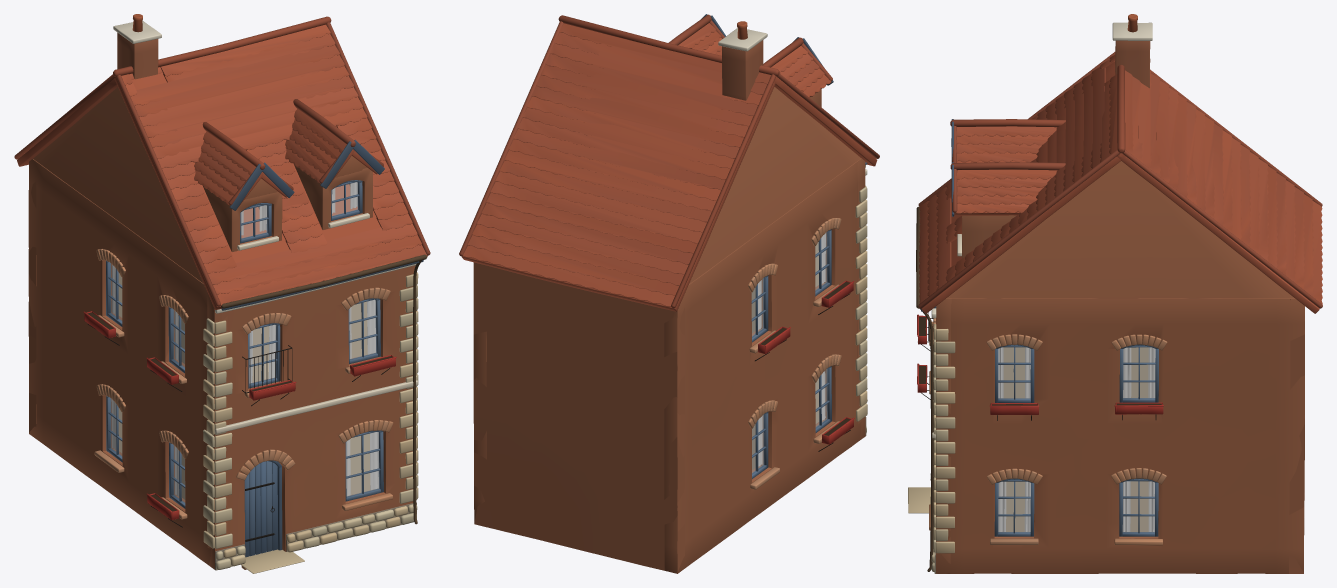
Rendered from GateStreet_Bend4.glb.
The picture shows the model from 3 angles, left to right: view 1: azimuth 30°, elevation 25°; view 2: azimuth 150°, elevation 25°; view 3: azimuth 270°, elevation 25°; orthographic projection. The views are drawn at different scales.
Visible parts, largest first — view 1: Sammel Ziegel, Sammel Stein, Sammel Lack, Sammel Putz, Glas, Vorhang Leinen, Sammel Putz innen, Sammel Metall; view 2: Sammel Ziegel, Sammel Stein, Sammel Lack, Sammel Putz, Glas, Vorhang Leinen, Sammel Putz innen; view 3: Sammel Ziegel, Sammel Stein, Glas, Sammel Lack, Sammel Putz, Sammel Putz innen, Vorhang Leinen, Sammel Metall.
Boxes of the visible parts, left/top/right/bottom form: Sammel Ziegel: left=28, top=32, right=416, bottom=569; Sammel Stein: left=14, top=16, right=430, bottom=573; Sammel Lack: left=83, top=139, right=423, bottom=557; Sammel Putz: left=87, top=14, right=417, bottom=570; Glas: left=110, top=182, right=378, bottom=502; Vorhang Leinen: left=111, top=182, right=378, bottom=496; Sammel Putz innen: left=118, top=273, right=373, bottom=499; Sammel Metall: left=87, top=254, right=427, bottom=541; Sammel Ziegel: left=473, top=40, right=865, bottom=573; Sammel Stein: left=459, top=14, right=879, bottom=432; Sammel Lack: left=701, top=14, right=867, bottom=478; Sammel Putz: left=718, top=21, right=867, bottom=489; Glas: left=752, top=232, right=827, bottom=473; Vorhang Leinen: left=758, top=233, right=825, bottom=466; Sammel Putz innen: left=751, top=242, right=819, bottom=469; Sammel Ziegel: left=936, top=40, right=1304, bottom=573; Sammel Stein: left=908, top=52, right=1322, bottom=572; Glas: left=998, top=347, right=1155, bottom=532; Sammel Lack: left=917, top=119, right=1163, bottom=536; Sammel Putz: left=919, top=14, right=1167, bottom=573; Sammel Putz innen: left=1003, top=347, right=1148, bottom=531; Vorhang Leinen: left=998, top=347, right=1155, bottom=531; Sammel Metall: left=916, top=206, right=1156, bottom=571.
Bounding box in the file's own units: 5.84 × 11.4 × 9.01.
